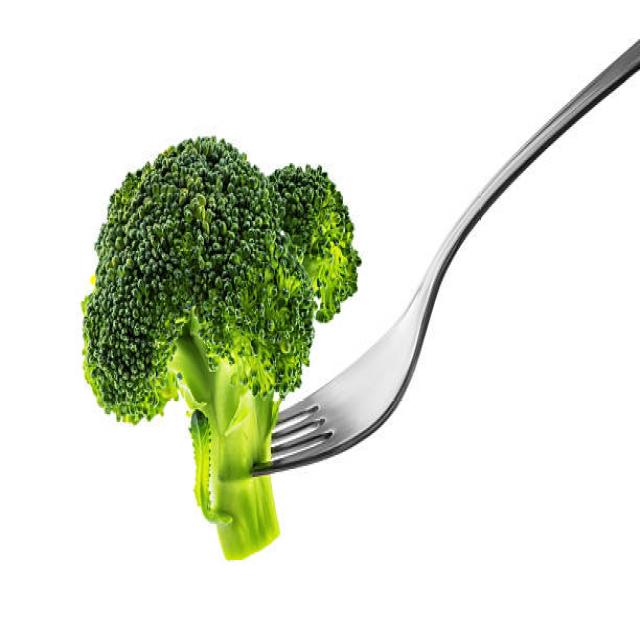broccoli: (96, 136, 294, 574)
